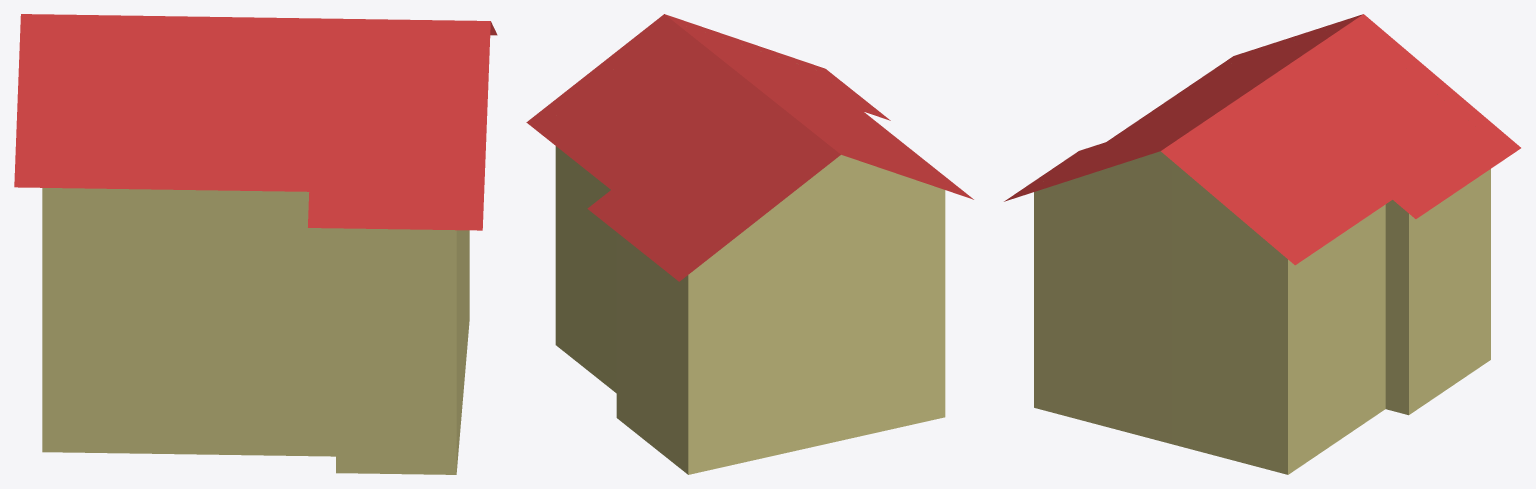
3 renders of one model, left to right at view 1: azimuth 30°, elevation 25°; view 2: azimuth 150°, elevation 25°; view 3: azimuth 270°, elevation 25°, orthographic. The views are drawn at different scales.
Visible parts, largest first — view 1: group_5, group_3, group_4; view 2: group_5, group_3, group_4; view 3: group_5, group_3, group_4.
Boxes of the visible parts, x1,y1,x2,y2 form: group_5: (42, 188, 469, 474); group_3: (16, 14, 497, 230); group_4: (14, 14, 490, 230); group_5: (555, 146, 945, 474); group_3: (556, 14, 944, 258); group_4: (526, 14, 973, 281); group_5: (1034, 151, 1490, 474); group_3: (1034, 14, 1490, 241); group_4: (1004, 14, 1520, 265).
Size of the model in its own units: 16.65 by 17.6 by 11.28.
